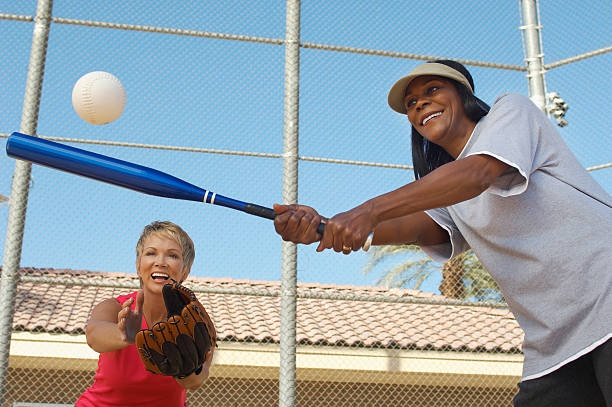bita: (2, 128, 375, 246)
